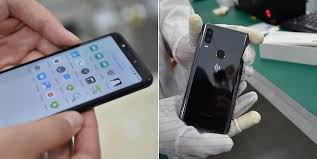vsmart: (173, 22, 253, 140)
